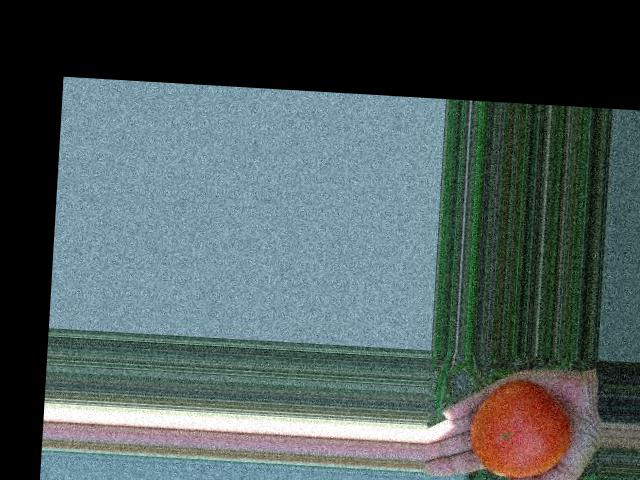tomato: (467, 376, 574, 480)
